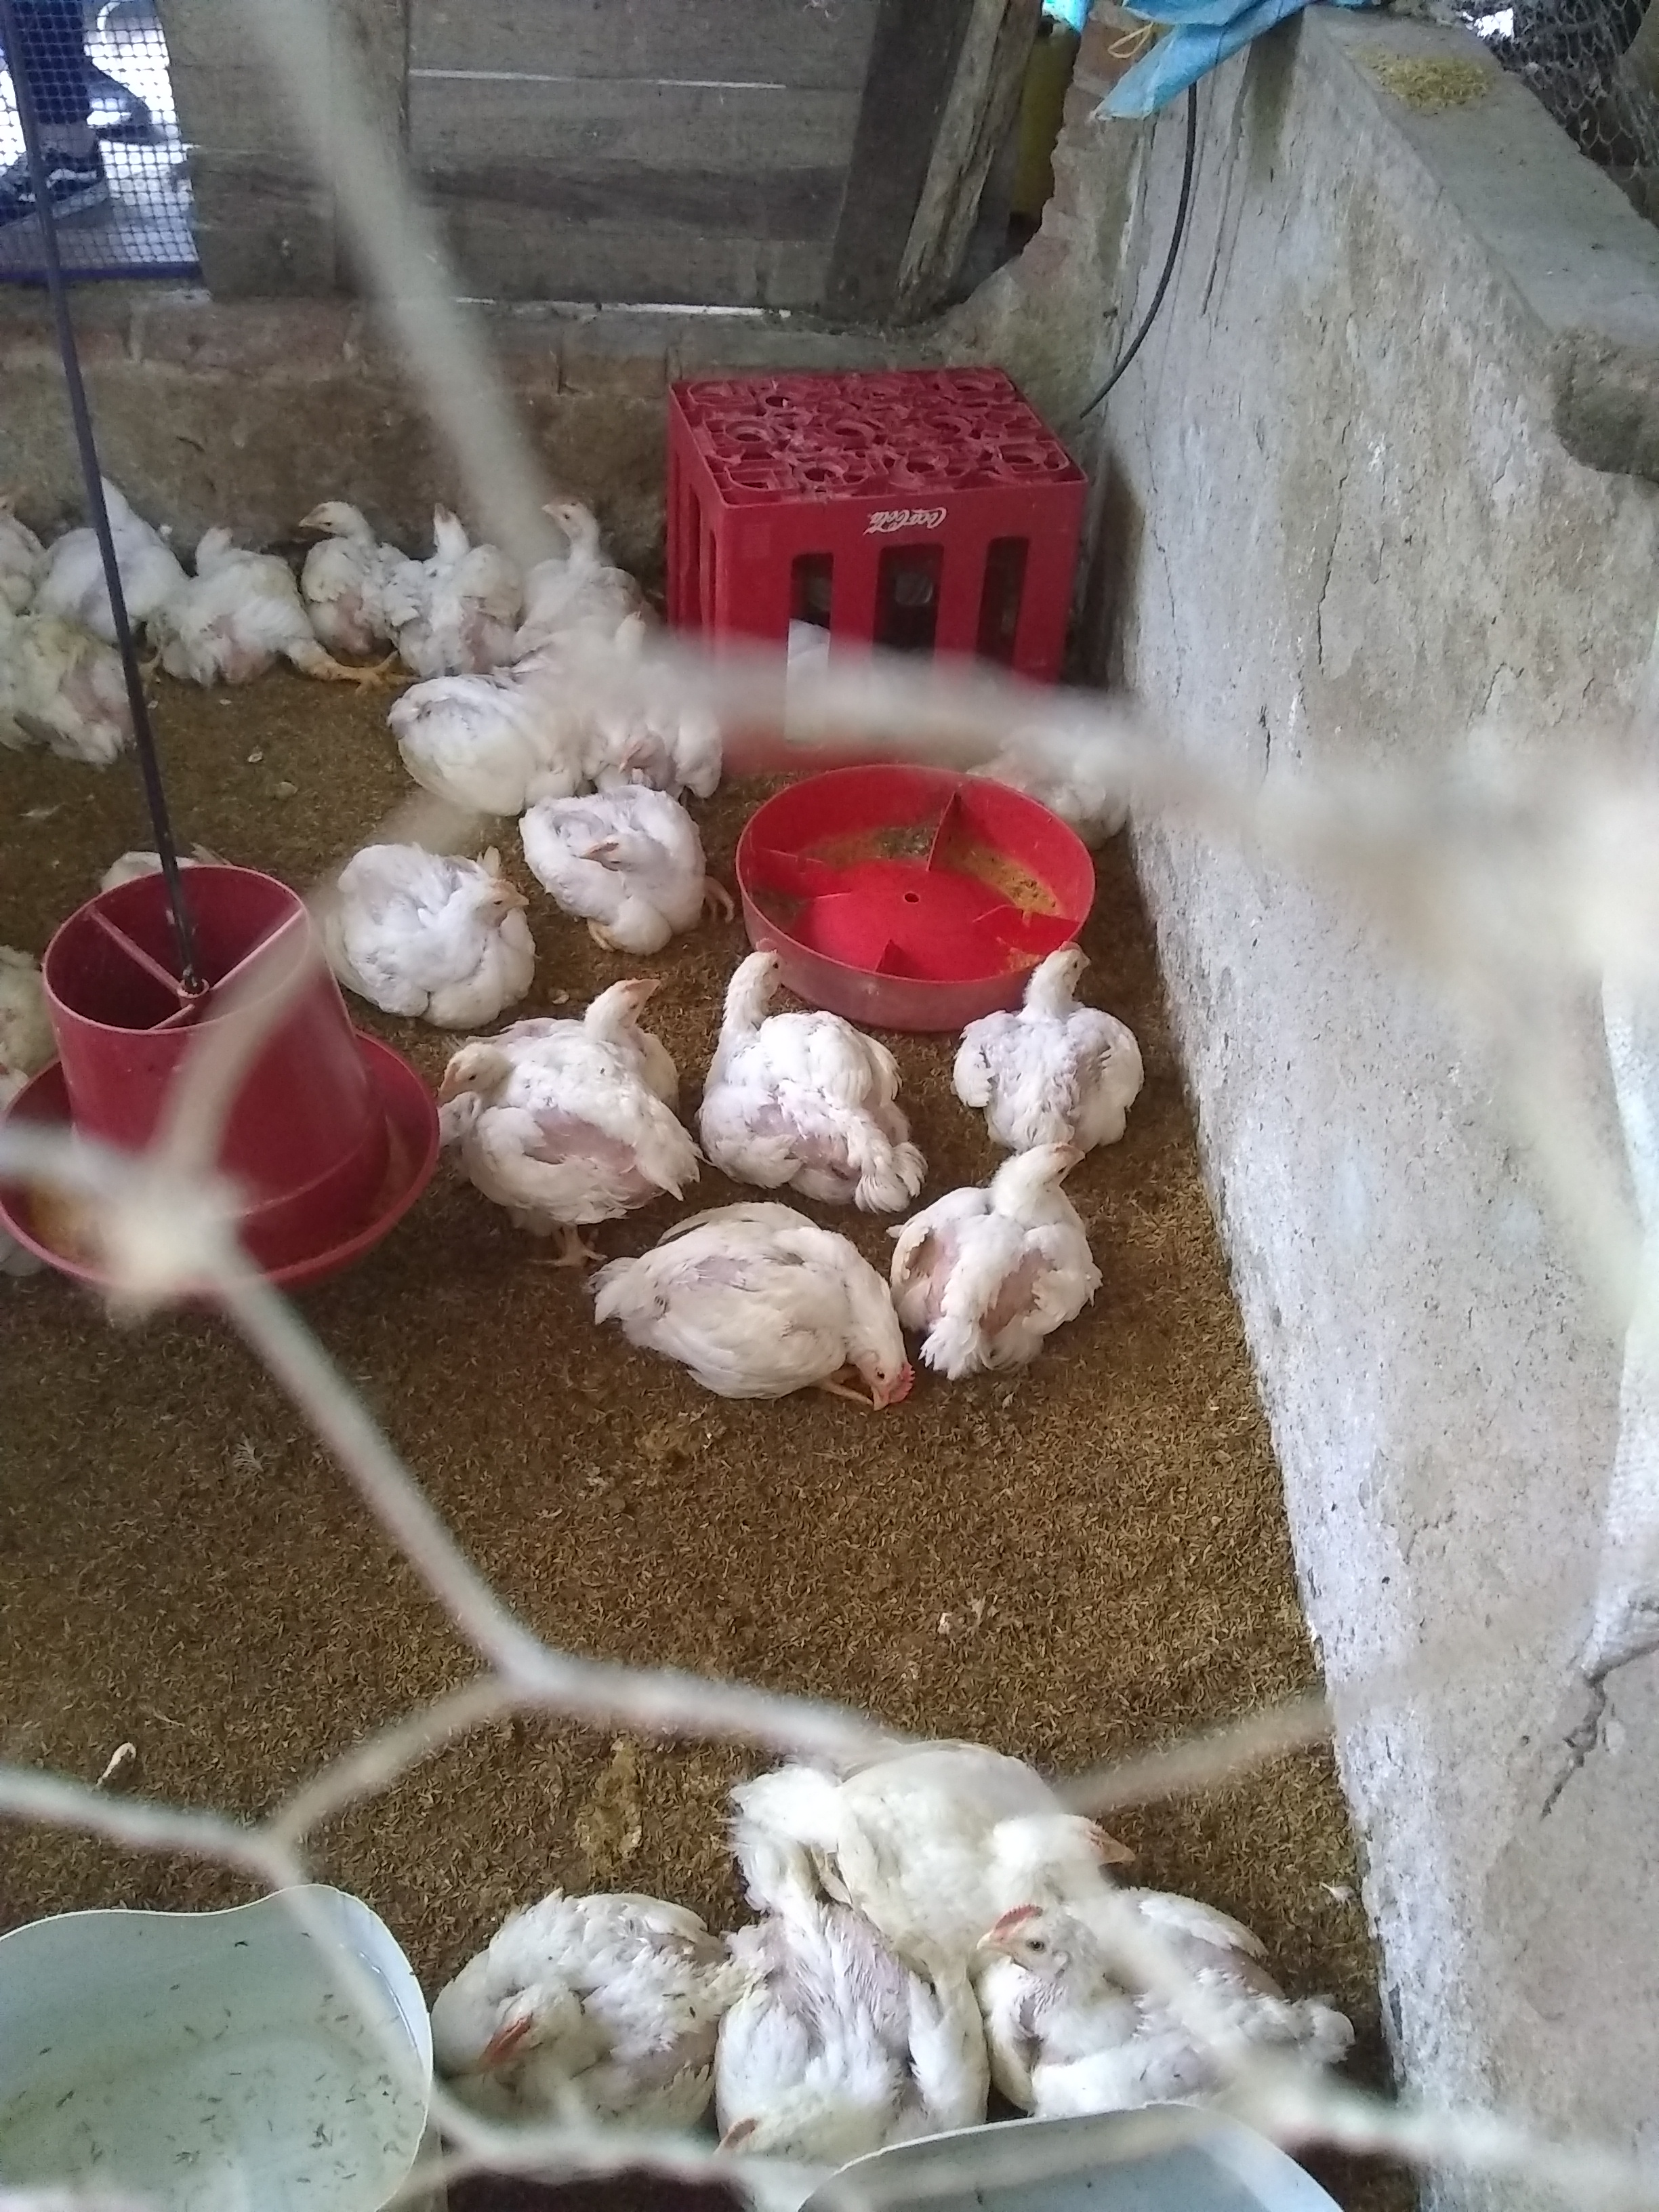Pollos: (378, 1851, 748, 2151), (718, 1698, 1140, 1933), (593, 1184, 941, 1465), (979, 1895, 1356, 2134), (706, 1919, 1016, 2198), (394, 965, 669, 1231), (666, 921, 922, 1198), (884, 1160, 1110, 1362), (985, 902, 1150, 1150), (321, 840, 533, 1014), (532, 796, 735, 977), (552, 648, 735, 820), (178, 488, 310, 691), (394, 667, 568, 820), (56, 444, 155, 643), (538, 477, 645, 648), (397, 493, 519, 625), (284, 482, 408, 599), (0, 488, 75, 608)
